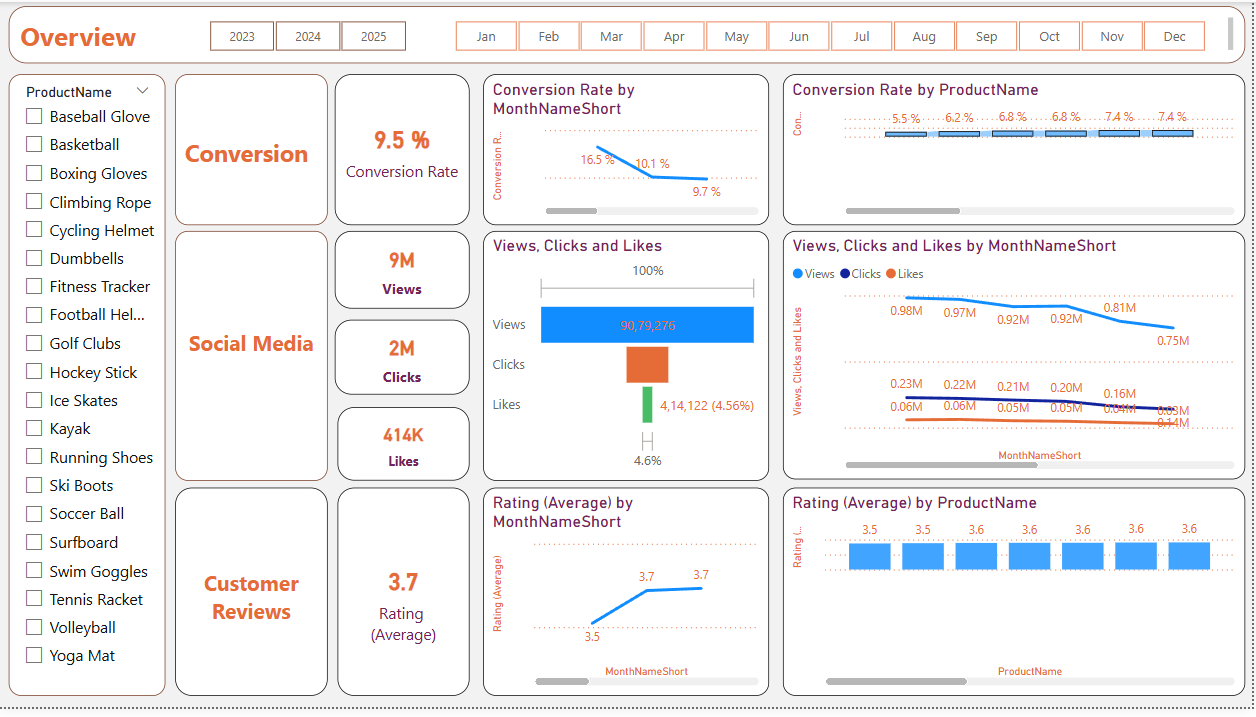

This screenshot's page, from the dashboard's own definition file:
{"tool":"powerbi","page":{"name":"Overview","canvas":[1280,720],"ordinal":0},"visuals":[{"type":"textbox","box":[9.9,4.3,1262.4,58.1],"z":0},{"type":"slicer","fields":{"Values":["dim_products.ProductName"]},"box":[9.9,73.7,160.1,634.8],"z":1000},{"type":"card","fields":{"Values":["_Calculations.Conversion Rate"]},"box":[342.9,73.7,137.4,154.4],"z":2000},{"type":"card","fields":{"Values":["_Calculations.Rating (Average)"]},"box":[345.7,495.9,134.6,212.5],"z":3000},{"type":"lineChart","fields":{"Y":["_Calculations.Conversion Rate"],"Category":["Calendar.MonthNameShort"]},"box":[494.5,73.7,291.9,154.4],"z":4000},{"type":"columnChart","fields":{"Category":["dim_products.ProductName"],"Y":["_Calculations.Conversion Rate"]},"box":[800.5,73.7,471.8,154.4],"z":5000},{"type":"slicer","fields":{"Values":["Calendar.Year"]},"box":[189.9,12.8,249.4,43.9],"z":6000},{"type":"slicer","fields":{"Values":["Calendar.MonthNameShort"]},"box":[440.7,12.8,814.7,43.9],"z":7000},{"type":"lineChart","fields":{"Y":["_Calculations.Views","_Calculations.Clicks","_Calculations.Likes"],"Category":["Calendar.MonthNameShort"]},"box":[800.5,233.8,471.8,253.6],"z":8000},{"type":"lineChart","fields":{"Category":["Calendar.MonthNameShort"],"Y":["_Calculations.Rating (Average)"]},"box":[494.5,495.9,291.9,212.5],"z":9000},{"type":"columnChart","fields":{"Category":["dim_products.ProductName"],"Y":["_Calculations.Rating (Average)"]},"box":[800.5,495.9,471.8,212.5],"z":10000},{"type":"funnel","fields":{"Y":["_Calculations.Views","_Calculations.Clicks","_Calculations.Likes"]},"box":[494.5,233.8,291.9,255],"z":11000},{"type":"card","fields":{"Values":["_Calculations.Views"]},"box":[342.9,233.8,137.4,79.3],"z":12000},{"type":"textbox","box":[179.9,73.7,155.9,154.4],"z":13000},{"type":"textbox","box":[179.9,233.8,155.9,255],"z":14000},{"type":"textbox","box":[179.9,495.9,155.9,212.5],"z":15000},{"type":"card","fields":{"Values":["_Calculations.Clicks"]},"box":[342.9,324.5,137.4,76.5],"z":16000},{"type":"card","fields":{"Values":["_Calculations.Likes"]},"box":[345.7,413.7,134.6,75.1],"z":17000}]}

Visuals, with their boxes in screenshot pixels (x1, y1, x2, y2), scaled from the page's 1280x720 canvas onto the 1256x717 screenshot:
textbox: detection(10, 4, 1248, 62)
slicer - dim_products.ProductName: detection(10, 73, 167, 706)
card - _Calculations.Conversion Rate: detection(336, 73, 471, 227)
card - _Calculations.Rating (Average): detection(339, 494, 471, 705)
lineChart - _Calculations.Conversion Rate x Calendar.MonthNameShort: detection(485, 73, 772, 227)
columnChart - dim_products.ProductName x _Calculations.Conversion Rate: detection(785, 73, 1248, 227)
slicer - Calendar.Year: detection(186, 13, 431, 56)
slicer - Calendar.MonthNameShort: detection(432, 13, 1232, 56)
lineChart - _Calculations.Views x _Calculations.Clicks: detection(785, 233, 1248, 485)
lineChart - Calendar.MonthNameShort x _Calculations.Rating (Average): detection(485, 494, 772, 705)
columnChart - dim_products.ProductName x _Calculations.Rating (Average): detection(785, 494, 1248, 705)
funnel - _Calculations.Views x _Calculations.Clicks: detection(485, 233, 772, 487)
card - _Calculations.Views: detection(336, 233, 471, 312)
textbox: detection(177, 73, 330, 227)
textbox: detection(177, 233, 330, 487)
textbox: detection(177, 494, 330, 705)
card - _Calculations.Clicks: detection(336, 323, 471, 399)
card - _Calculations.Likes: detection(339, 412, 471, 487)
